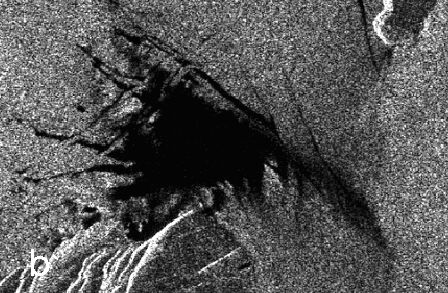anomaly: (71, 37, 348, 241)
